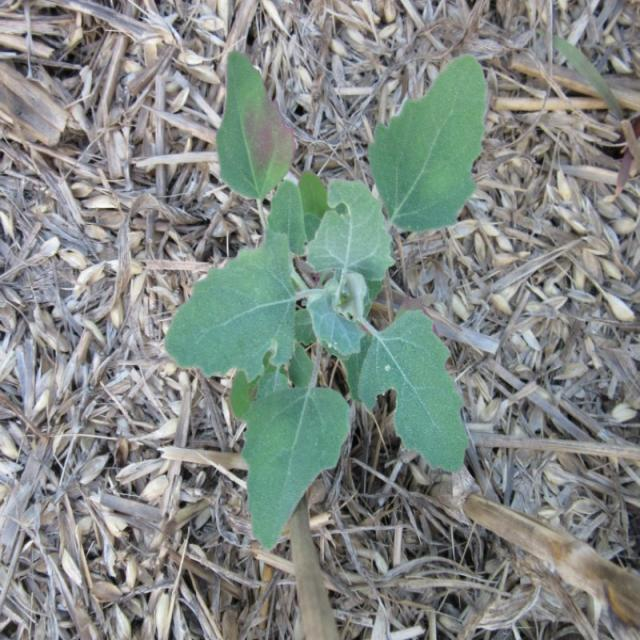ca: (159, 48, 489, 551)
